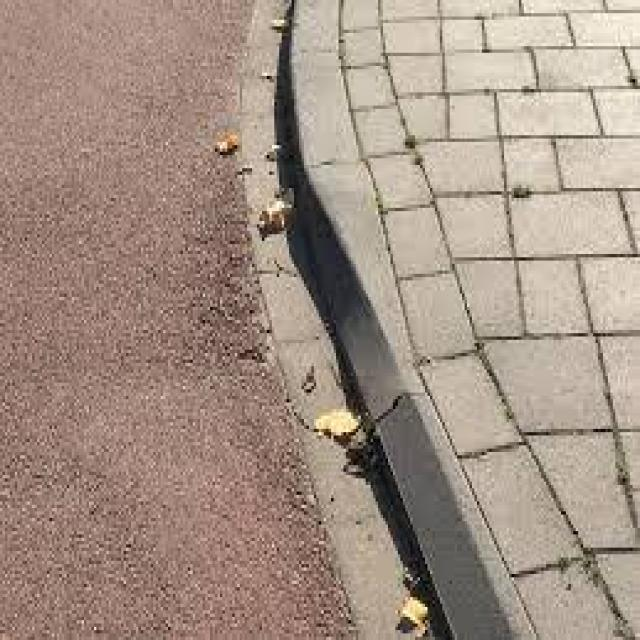curb: (363, 425, 521, 640), (286, 228, 431, 430), (254, 1, 358, 207)
